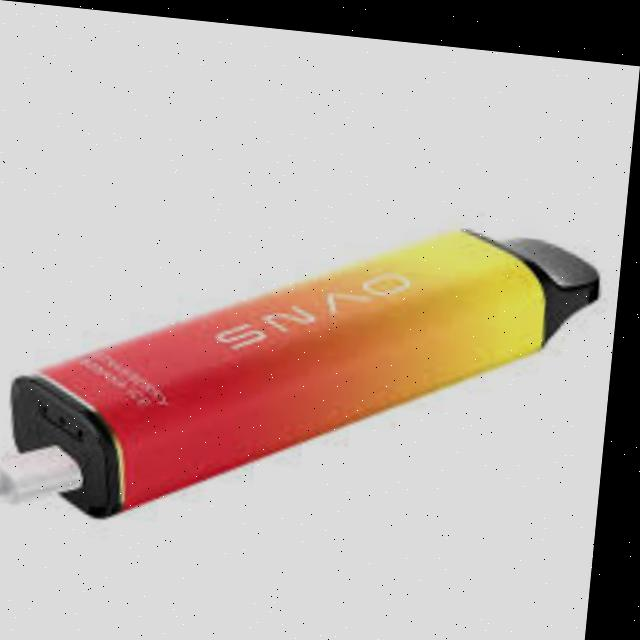vape: (0, 178, 609, 555)
